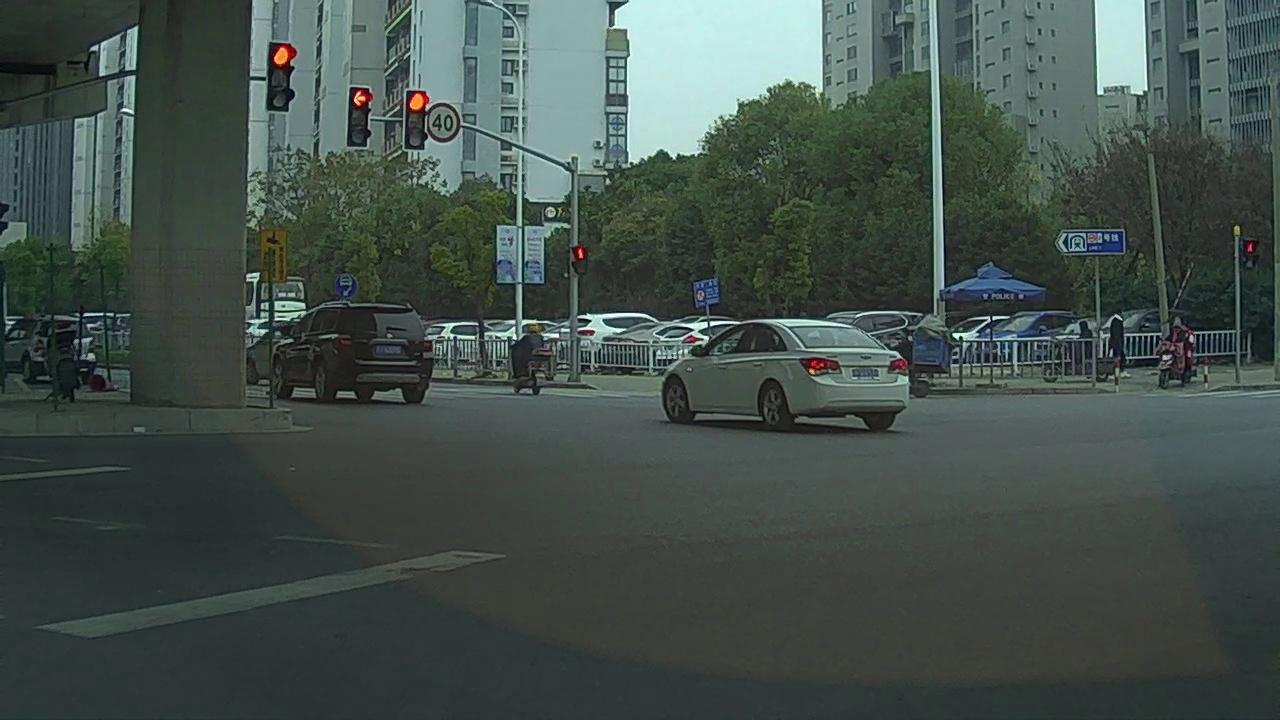traffic_light: (268, 42, 288, 110), (348, 86, 367, 146), (408, 91, 425, 147)
